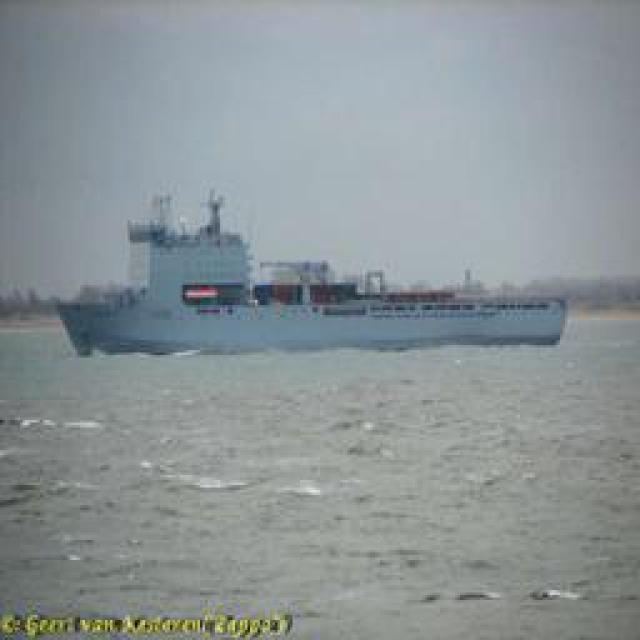Ship: (62, 226, 565, 356)
